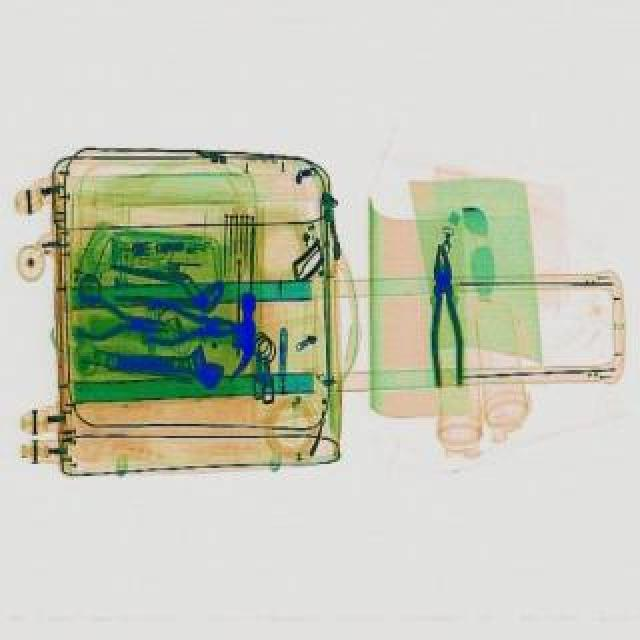scissors: (104, 338, 228, 390)
wrench: (424, 242, 468, 388), (76, 290, 176, 346), (150, 300, 242, 346)
